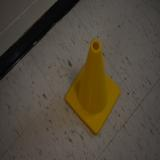cone: (65, 39, 121, 135)
